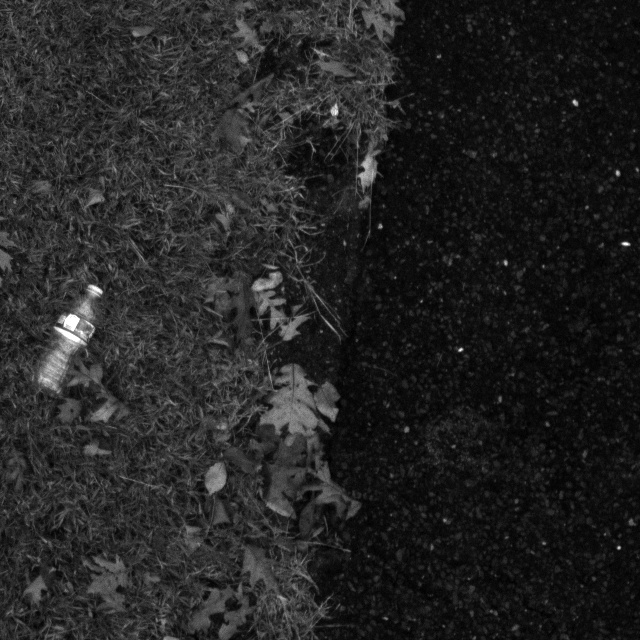bottle: (31, 272, 108, 403)
